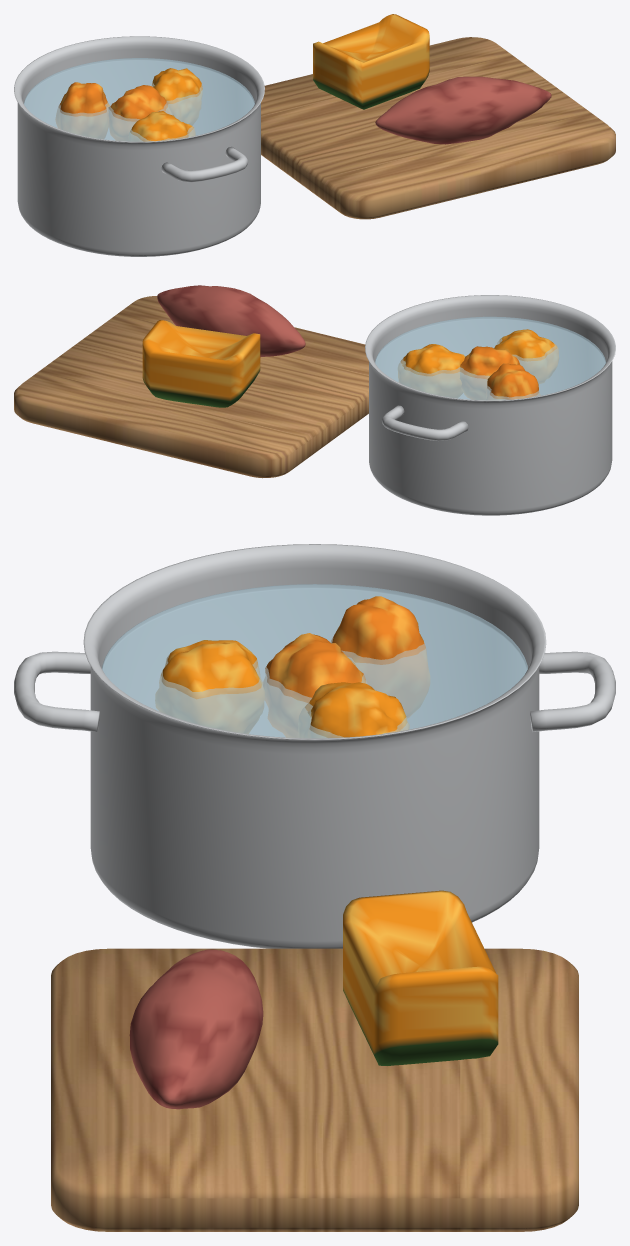
File: paso-1.glb
3 views of the same model, one above another, from view 1: azimuth 30°, elevation 25°; view 2: azimuth 150°, elevation 25°; view 3: azimuth 270°, elevation 25° (orthographic). The views are drawn at different scales.
Parts seen in each view (by area): view 1: paso-1-0, paso-1-8, paso-1-3, paso-1-9, paso-1-10, paso-1-5, paso-1-4, paso-1-7, paso-1-6, paso-1-2; view 2: paso-1-0, paso-1-8, paso-1-3, paso-1-9, paso-1-10, paso-1-4, paso-1-6, paso-1-7, paso-1-5, paso-1-1; view 3: paso-1-0, paso-1-8, paso-1-3, paso-1-9, paso-1-10, paso-1-6, paso-1-5, paso-1-7, paso-1-4, paso-1-1, paso-1-2.
Part boxes in pixels (<box>): paso-1-0: <box>14,36,264,256</box>; paso-1-8: <box>261,37,615,219</box>; paso-1-3: <box>24,58,254,141</box>; paso-1-9: <box>313,14,429,109</box>; paso-1-10: <box>375,76,551,144</box>; paso-1-5: <box>55,82,109,138</box>; paso-1-4: <box>152,68,202,125</box>; paso-1-7: <box>108,85,172,140</box>; paso-1-6: <box>129,111,195,141</box>; paso-1-2: <box>161,146,248,182</box>; paso-1-0: <box>365,295,615,515</box>; paso-1-8: <box>14,296,368,478</box>; paso-1-3: <box>375,316,606,400</box>; paso-1-9: <box>142,320,260,407</box>; paso-1-10: <box>157,285,305,357</box>; paso-1-4: <box>398,344,464,397</box>; paso-1-6: <box>494,329,558,383</box>; paso-1-7: <box>460,346,520,399</box>; paso-1-5: <box>486,363,540,399</box>; paso-1-1: <box>381,405,468,440</box>; paso-1-0: <box>83,544,546,948</box>; paso-1-8: <box>51,948,578,1231</box>; paso-1-3: <box>102,584,527,738</box>; paso-1-9: <box>343,890,498,1065</box>; paso-1-10: <box>129,949,263,1109</box>; paso-1-6: <box>155,640,264,733</box>; paso-1-5: <box>331,596,429,717</box>; paso-1-7: <box>263,633,367,737</box>; paso-1-4: <box>298,682,409,737</box>; paso-1-1: <box>530,651,615,731</box>; paso-1-2: <box>14,651,99,731</box>.
Bounding box in the file's own units: 0.4227 × 0.0932 × 0.228.
Materials: 5 (1 with a texture image).
